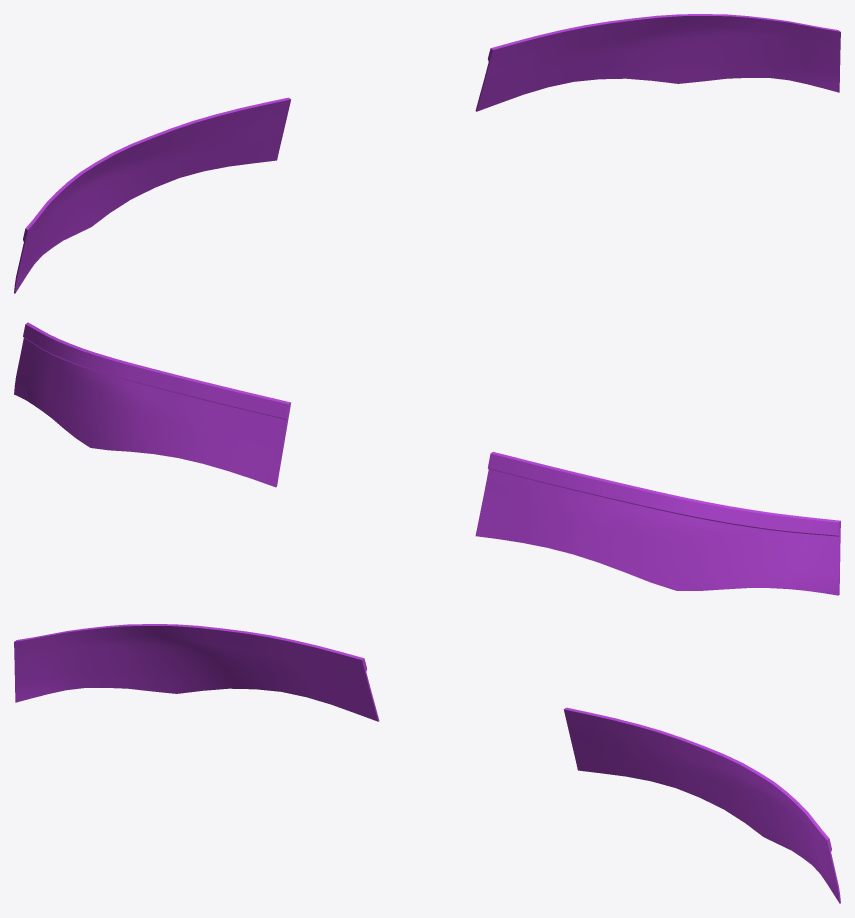
The model's file is SM_CarlosSA_Trousers_BackPockets_2Flaps.fbx.
The picture shows the model from 3 angles, top to bottom: view 1: azimuth 30°, elevation 25°; view 2: azimuth 150°, elevation 25°; view 3: azimuth 330°, elevation 25°; orthographic projection.
Parts seen in each view (by area): view 1: SM_CarlosSA_Trousers_BackPockets_2Flaps; view 2: SM_CarlosSA_Trousers_BackPockets_2Flaps; view 3: SM_CarlosSA_Trousers_BackPockets_2Flaps.
Boxes of the visible parts, left/top/right/bottom form: SM_CarlosSA_Trousers_BackPockets_2Flaps: left=14, top=14, right=840, bottom=293; SM_CarlosSA_Trousers_BackPockets_2Flaps: left=14, top=322, right=840, bottom=595; SM_CarlosSA_Trousers_BackPockets_2Flaps: left=14, top=624, right=840, bottom=903.
Bounding box in the file's own units: 0.2407 × 0.026 × 0.03.
